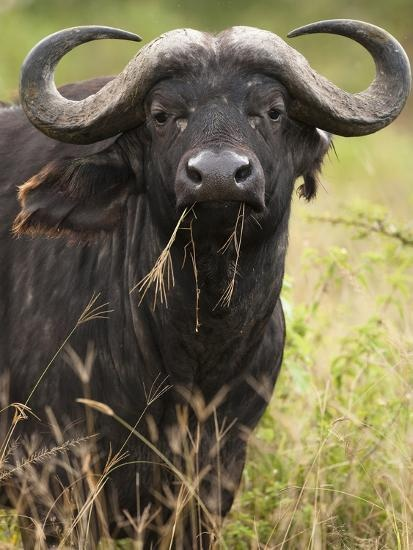buffalo: (2, 25, 410, 546)
